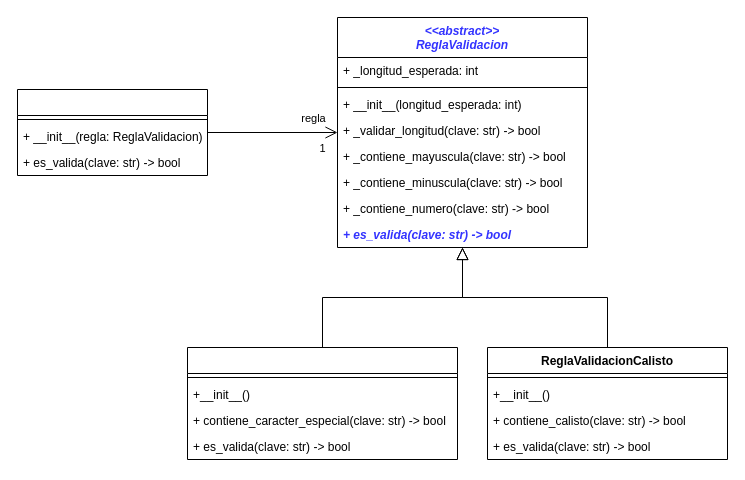
The diagram is 745 pixels wide and 480 high, and some of its shapes have lost their labels. Here are the shapes that lost their labels. From the top down, the box of each, then its label:
(16, 88, 208, 176): Validador
(186, 346, 458, 460): ReglaValidacionGanimedes
